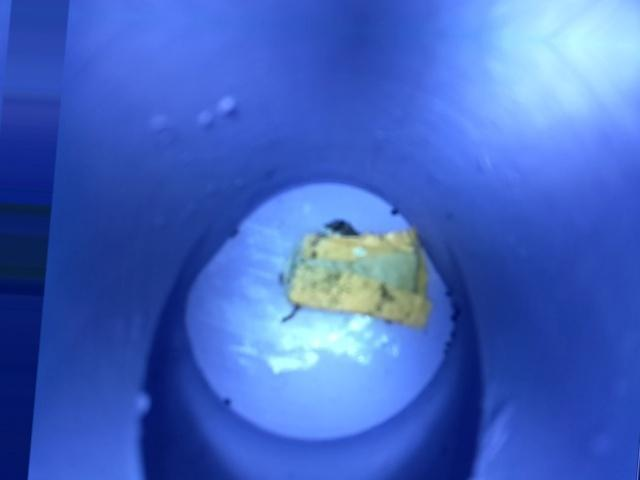megot: (275, 209, 445, 343)
